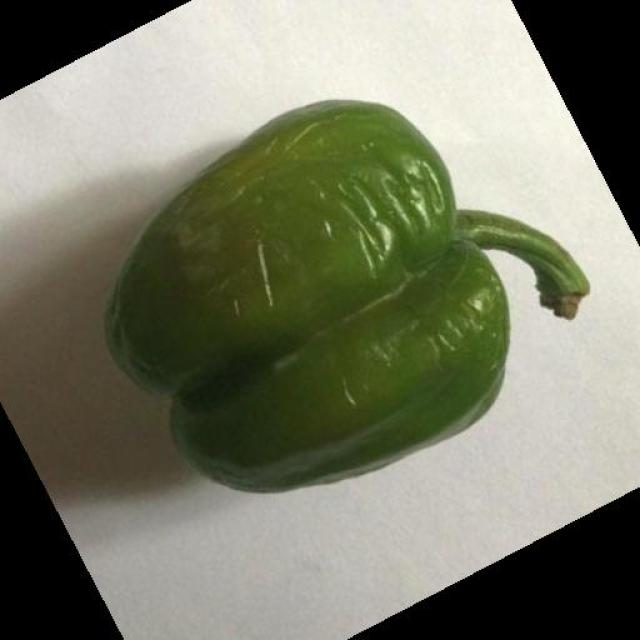Stale_Capsicum: (96, 60, 567, 473)
